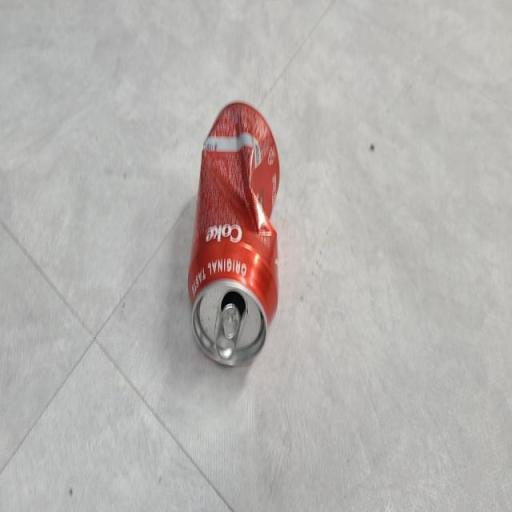metal: (180, 82, 304, 392)
